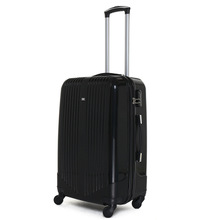luggage: (53, 0, 148, 220)
